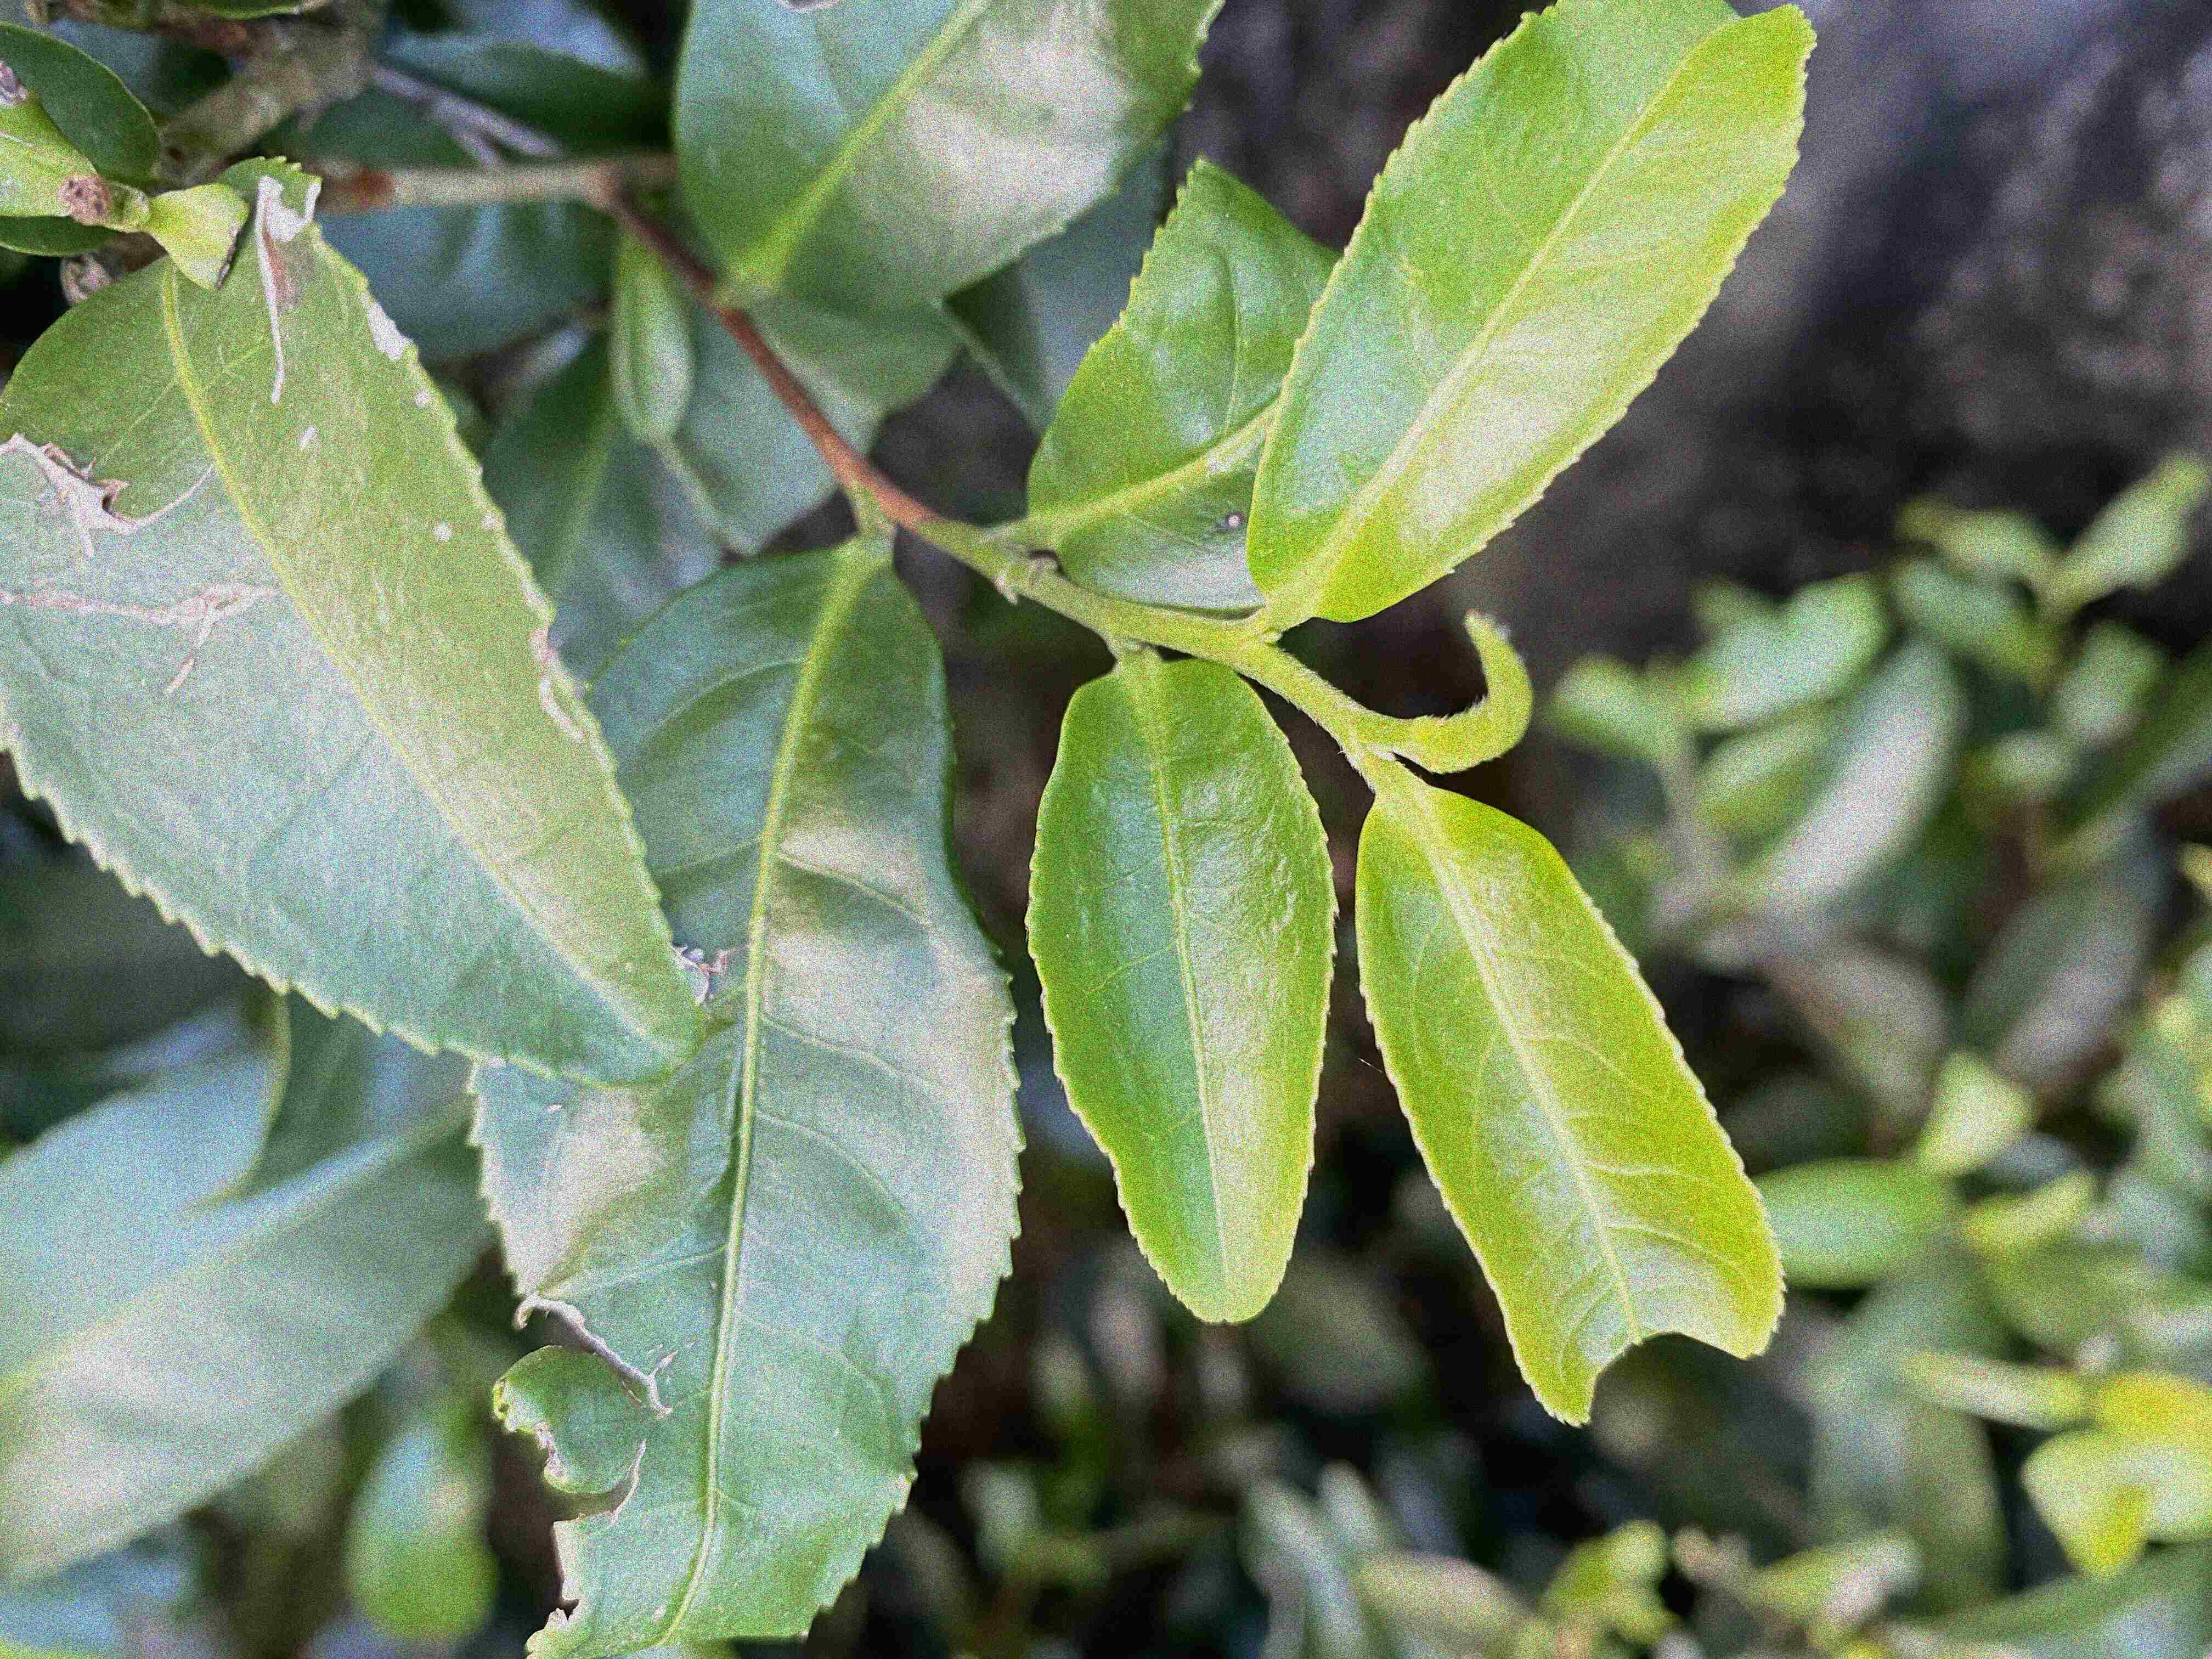chihuo_high: (463, 554, 1031, 1657)
chihuo_low: (1355, 781, 1789, 1427)
healthy: (1247, 2, 1820, 627), (1021, 657, 1341, 1323)
tanju_high: (3, 173, 702, 1089)
